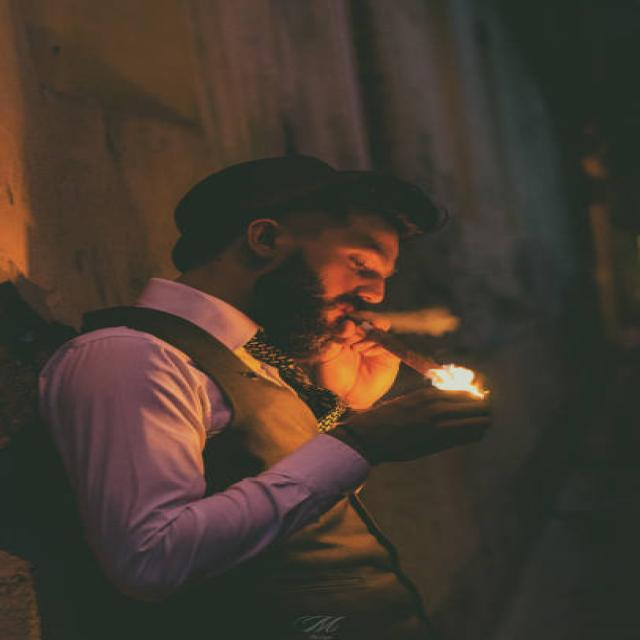fire: (427, 363, 490, 400)
